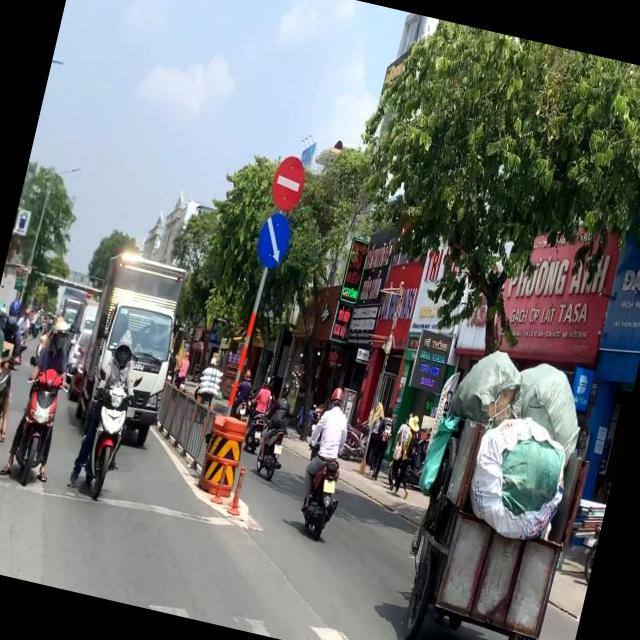P-102: (268, 154, 308, 215)
R-302a: (255, 211, 292, 270)
